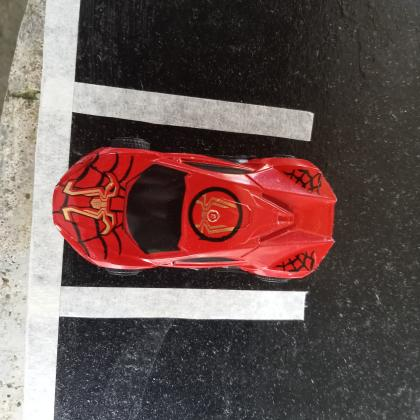Car: (52, 137, 340, 285)
